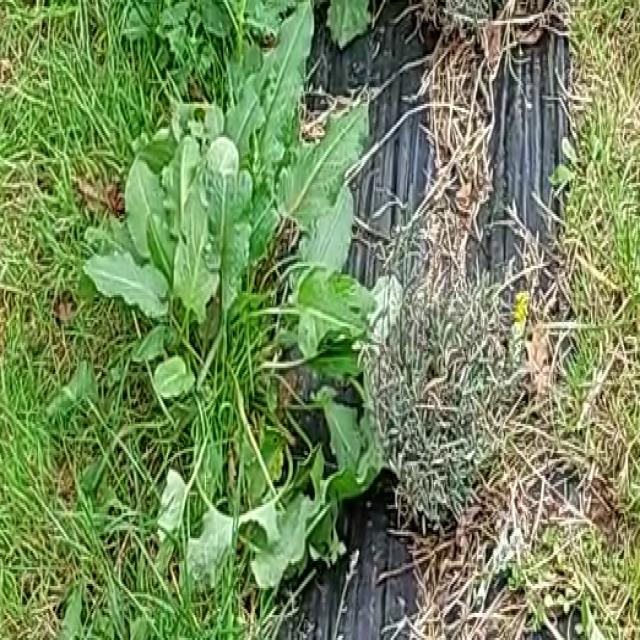organic waste: (81, 33, 386, 584)
